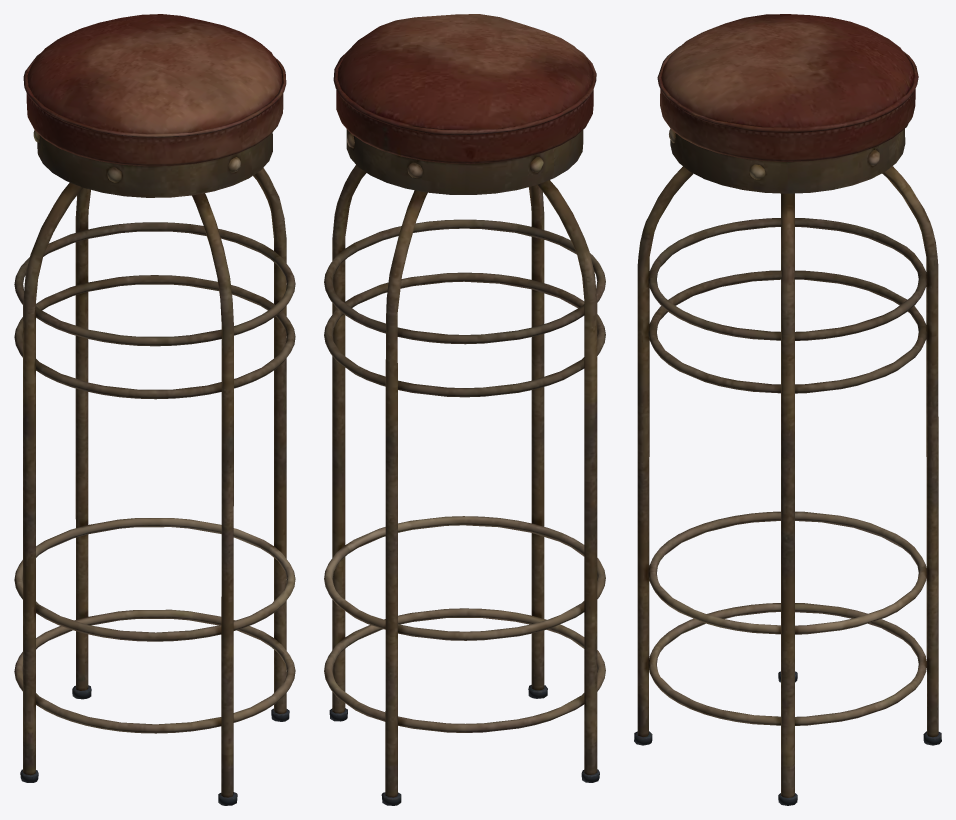
The model's file is metal_stool_01.glb.
3 views of the same model, side by side, from view 1: azimuth 30°, elevation 25°; view 2: azimuth 150°, elevation 25°; view 3: azimuth 270°, elevation 25° (orthographic).
Parts seen in each view (by area): view 1: metal_stool_01; view 2: metal_stool_01; view 3: metal_stool_01.
Boxes of the visible parts, x1,y1,x2,y2 form: metal_stool_01: (14,14,295,805); metal_stool_01: (324,14,605,805); metal_stool_01: (634,14,941,805).
Bounding box in the file's own units: 0.351 × 0.8824 × 0.3538.
1 material, 1 textured.
